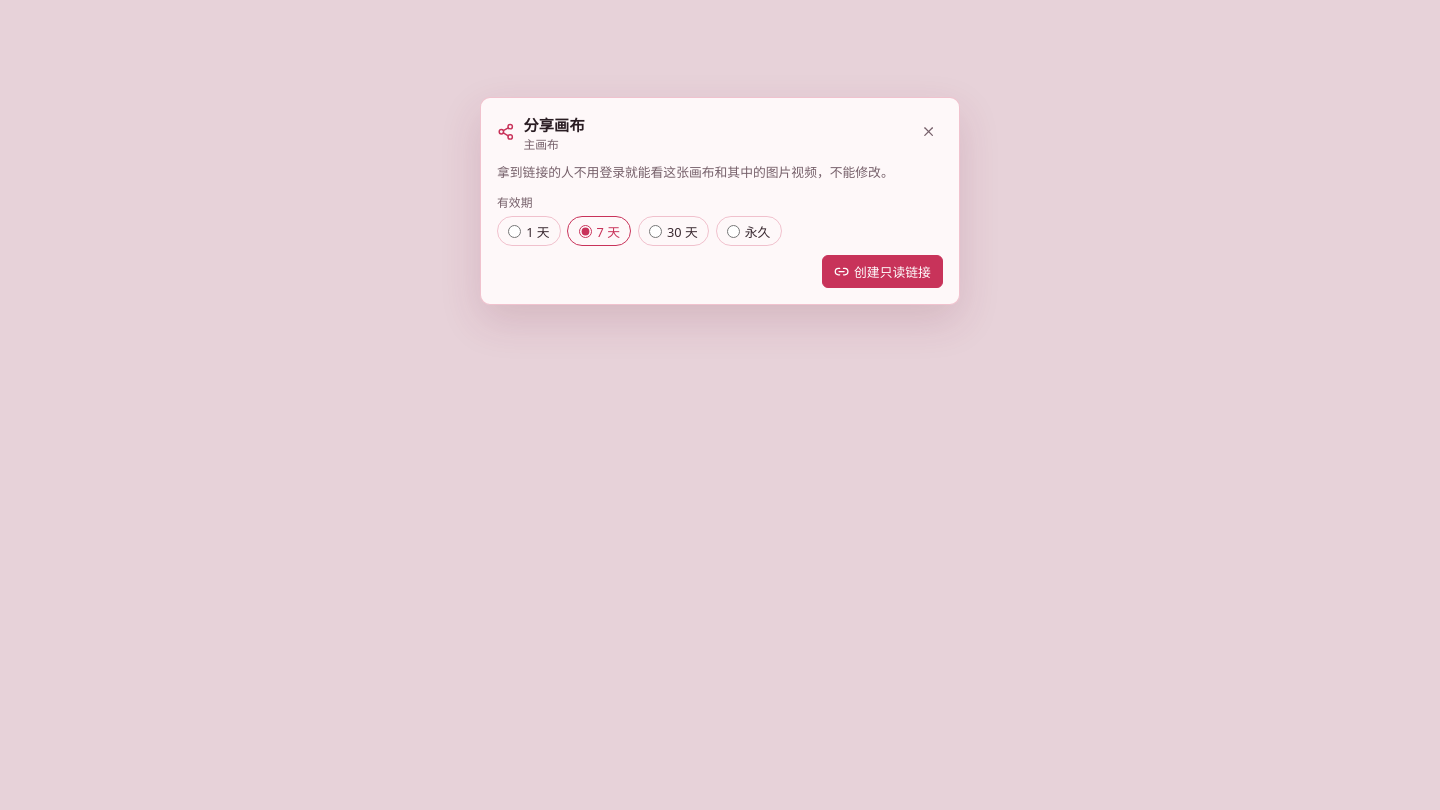
Test: CanvasShareDialog › offers forever as a validity
This screenshot has width=1440, height=810.
Click the radio button labelled "永久" at (734, 231), box [727,224,740,238]
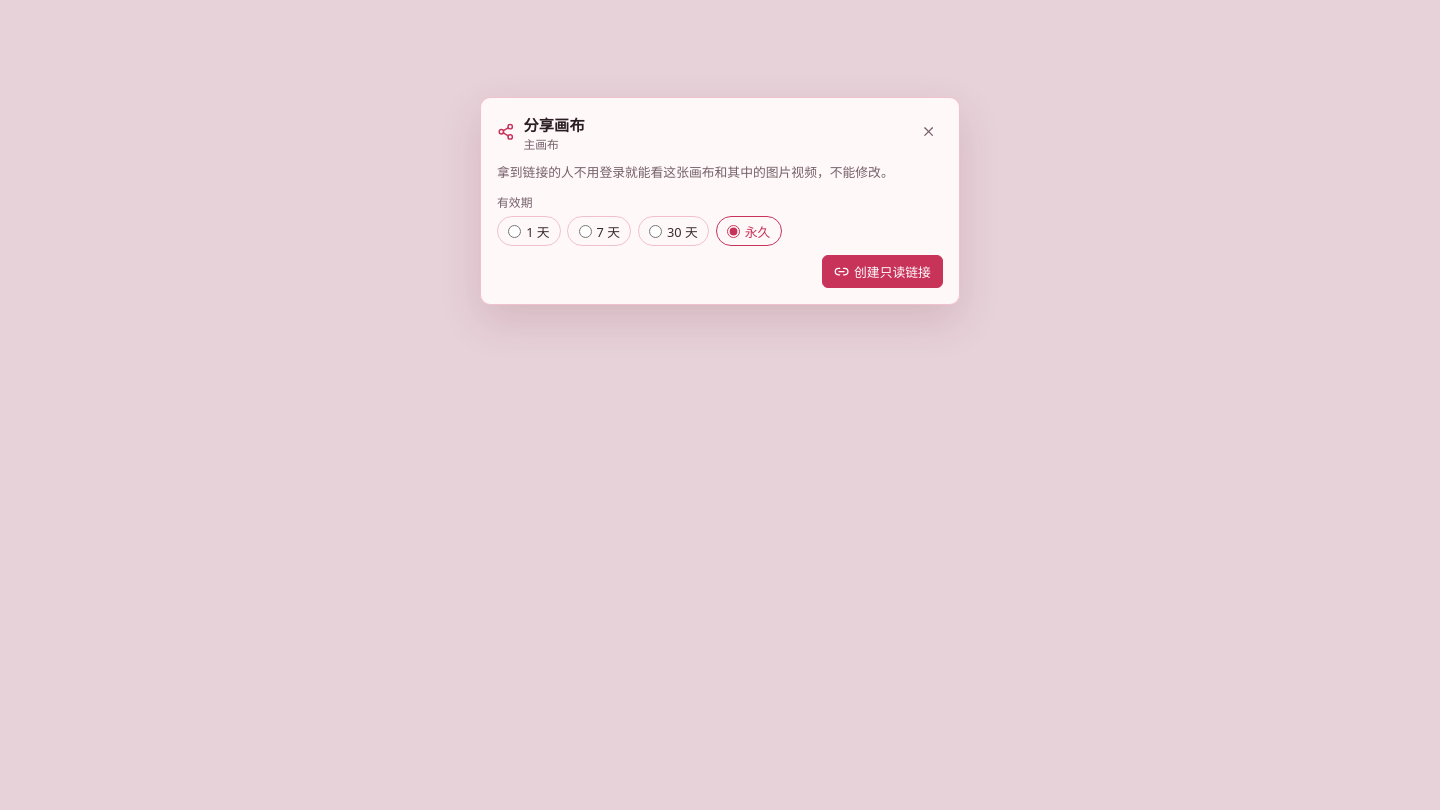
Click the button "创建只读链接" at (882, 272), box [822,255,943,288]
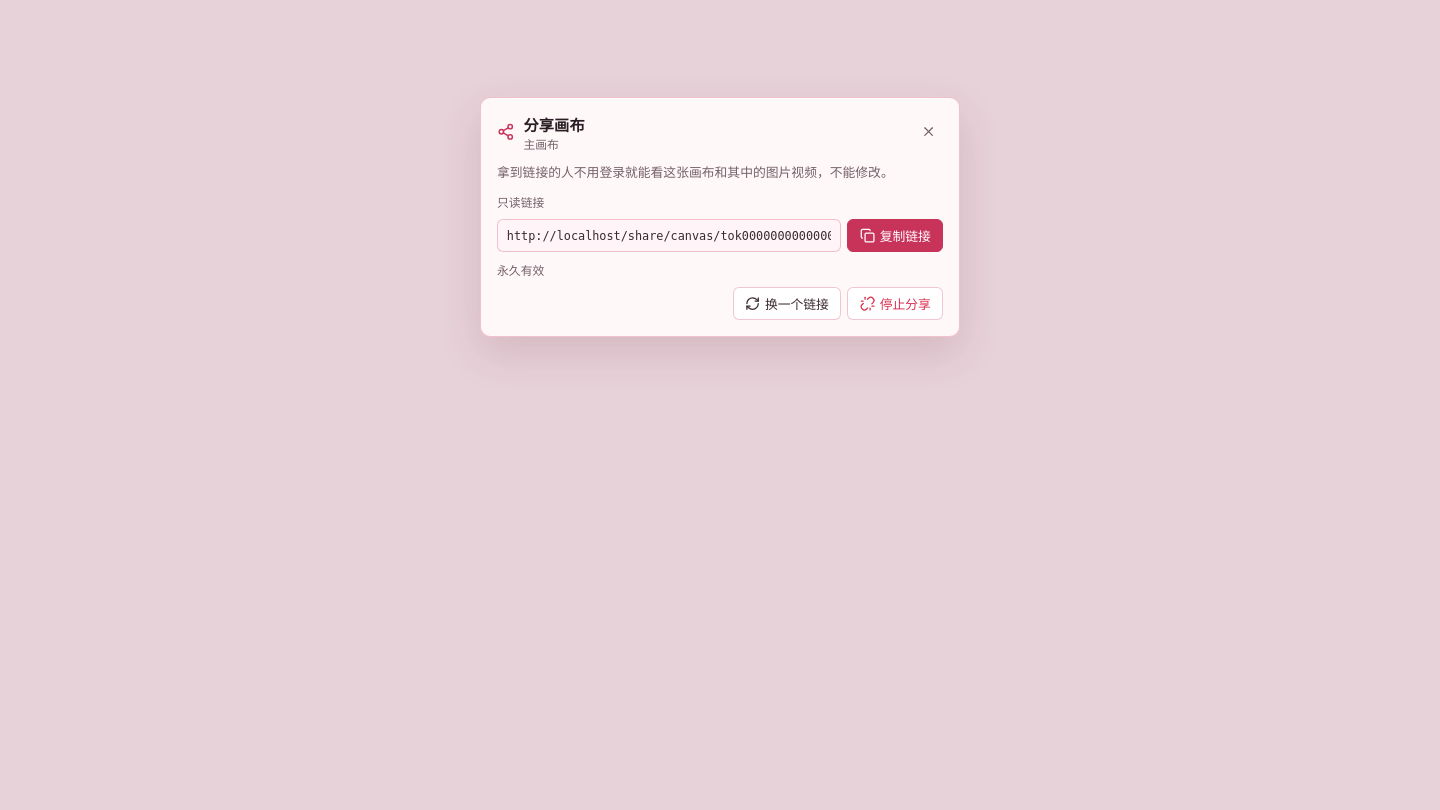
Check: the field labelled "只读链接" is shown, box [497,219,841,252]
Check: the text "永久有效" is shown, box [497,262,544,278]
